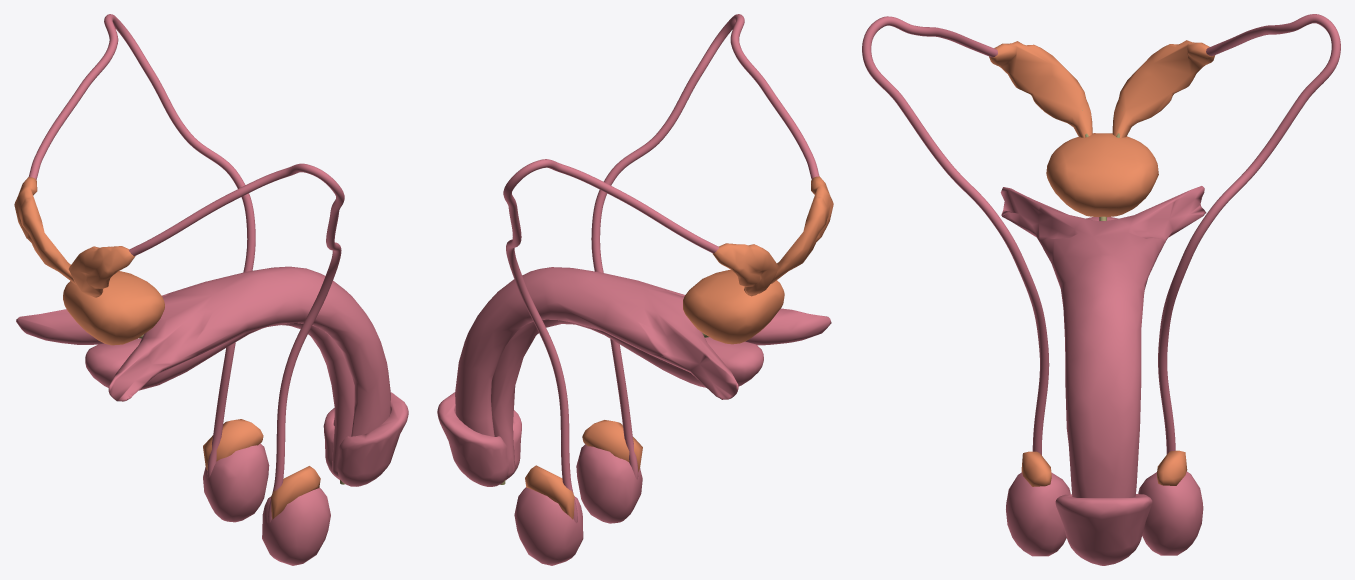
The model's file is NEPE.fbx.
3 renders of one model, left to right at view 1: azimuth 30°, elevation 25°; view 2: azimuth 150°, elevation 25°; view 3: azimuth 270°, elevation 25°, orthographic. The views are drawn at different scales.
Visible parts, largest first — view 1: Corpus_cavernosum_of_penis_Generated_Mesh_From_X3D.126, Ductus_deferens.l_BezierCurve.287, Ductus_deferens.r_BezierCurve.287, Corpus_spongiosum_of_penis_grp1.1507, Prostate_Generated_Mesh_From_X3D.904, Glans_penis_Generated_Mesh_From_X3D.111, Testicle.r_Generated_Mesh_From_X3D.752, Testicle.l_Generated_Mesh_From_X3D.752, Seminal_gland.r_Generated_Mesh_From_X3D.124, Seminal_gland.l_Generated_Mesh_From_X3D.124, Epididymis.l_Generated_Mesh_From_X3D.112, Epididymis.r_Generated_Mesh_From_X3D.112; view 2: Corpus_cavernosum_of_penis_Generated_Mesh_From_X3D.126, Ductus_deferens.r_BezierCurve.287, Corpus_spongiosum_of_penis_grp1.1507, Ductus_deferens.l_BezierCurve.287, Prostate_Generated_Mesh_From_X3D.904, Testicle.l_Generated_Mesh_From_X3D.752, Testicle.r_Generated_Mesh_From_X3D.752, Glans_penis_Generated_Mesh_From_X3D.111, Seminal_gland.l_Generated_Mesh_From_X3D.124, Seminal_gland.r_Generated_Mesh_From_X3D.124, Epididymis.r_Generated_Mesh_From_X3D.112, Epididymis.l_Generated_Mesh_From_X3D.112; view 3: Corpus_cavernosum_of_penis_Generated_Mesh_From_X3D.126, Prostate_Generated_Mesh_From_X3D.904, Ductus_deferens.l_BezierCurve.287, Ductus_deferens.r_BezierCurve.287, Glans_penis_Generated_Mesh_From_X3D.111, Seminal_gland.r_Generated_Mesh_From_X3D.124, Seminal_gland.l_Generated_Mesh_From_X3D.124, Testicle.l_Generated_Mesh_From_X3D.752, Testicle.r_Generated_Mesh_From_X3D.752, Epididymis.r_Generated_Mesh_From_X3D.112, Epididymis.l_Generated_Mesh_From_X3D.112.
Boxes of the visible parts, x1,y1,x2,y2 form: Corpus_cavernosum_of_penis_Generated_Mesh_From_X3D.126: [16, 266, 390, 436]; Ductus_deferens.l_BezierCurve.287: [28, 14, 255, 478]; Ductus_deferens.r_BezierCurve.287: [129, 163, 344, 523]; Corpus_spongiosum_of_penis_grp1.1507: [85, 323, 354, 477]; Prostate_Generated_Mesh_From_X3D.904: [63, 271, 164, 345]; Glans_penis_Generated_Mesh_From_X3D.111: [323, 392, 408, 486]; Testicle.r_Generated_Mesh_From_X3D.752: [262, 487, 330, 565]; Testicle.l_Generated_Mesh_From_X3D.752: [203, 443, 269, 522]; Seminal_gland.r_Generated_Mesh_From_X3D.124: [68, 246, 135, 297]; Seminal_gland.l_Generated_Mesh_From_X3D.124: [14, 177, 76, 284]; Epididymis.l_Generated_Mesh_From_X3D.112: [203, 419, 263, 470]; Epididymis.r_Generated_Mesh_From_X3D.112: [271, 466, 320, 519]; Corpus_cavernosum_of_penis_Generated_Mesh_From_X3D.126: [455, 267, 831, 436]; Ductus_deferens.r_BezierCurve.287: [591, 14, 819, 479]; Corpus_spongiosum_of_penis_grp1.1507: [491, 319, 763, 477]; Ductus_deferens.l_BezierCurve.287: [503, 159, 718, 523]; Prostate_Generated_Mesh_From_X3D.904: [683, 270, 784, 344]; Testicle.l_Generated_Mesh_From_X3D.752: [514, 487, 583, 565]; Testicle.r_Generated_Mesh_From_X3D.752: [576, 444, 642, 523]; Glans_penis_Generated_Mesh_From_X3D.111: [437, 392, 521, 486]; Seminal_gland.l_Generated_Mesh_From_X3D.124: [712, 243, 778, 296]; Seminal_gland.r_Generated_Mesh_From_X3D.124: [771, 176, 833, 283]; Epididymis.r_Generated_Mesh_From_X3D.112: [582, 420, 642, 471]; Epididymis.l_Generated_Mesh_From_X3D.112: [525, 465, 574, 519]; Corpus_cavernosum_of_penis_Generated_Mesh_From_X3D.126: [1000, 186, 1206, 497]; Prostate_Generated_Mesh_From_X3D.904: [1046, 133, 1158, 217]; Ductus_deferens.l_BezierCurve.287: [1158, 14, 1340, 454]; Ductus_deferens.r_BezierCurve.287: [862, 16, 1049, 455]; Glans_penis_Generated_Mesh_From_X3D.111: [1055, 494, 1152, 565]; Seminal_gland.r_Generated_Mesh_From_X3D.124: [989, 41, 1092, 137]; Seminal_gland.l_Generated_Mesh_From_X3D.124: [1112, 40, 1214, 137]; Testicle.l_Generated_Mesh_From_X3D.752: [1138, 471, 1203, 555]; Testicle.r_Generated_Mesh_From_X3D.752: [1006, 472, 1070, 556]; Epididymis.r_Generated_Mesh_From_X3D.112: [1021, 451, 1051, 486]; Epididymis.l_Generated_Mesh_From_X3D.112: [1157, 450, 1187, 485].
Bounding box in the file's own units: 47.54 × 60.38 × 51.63.
